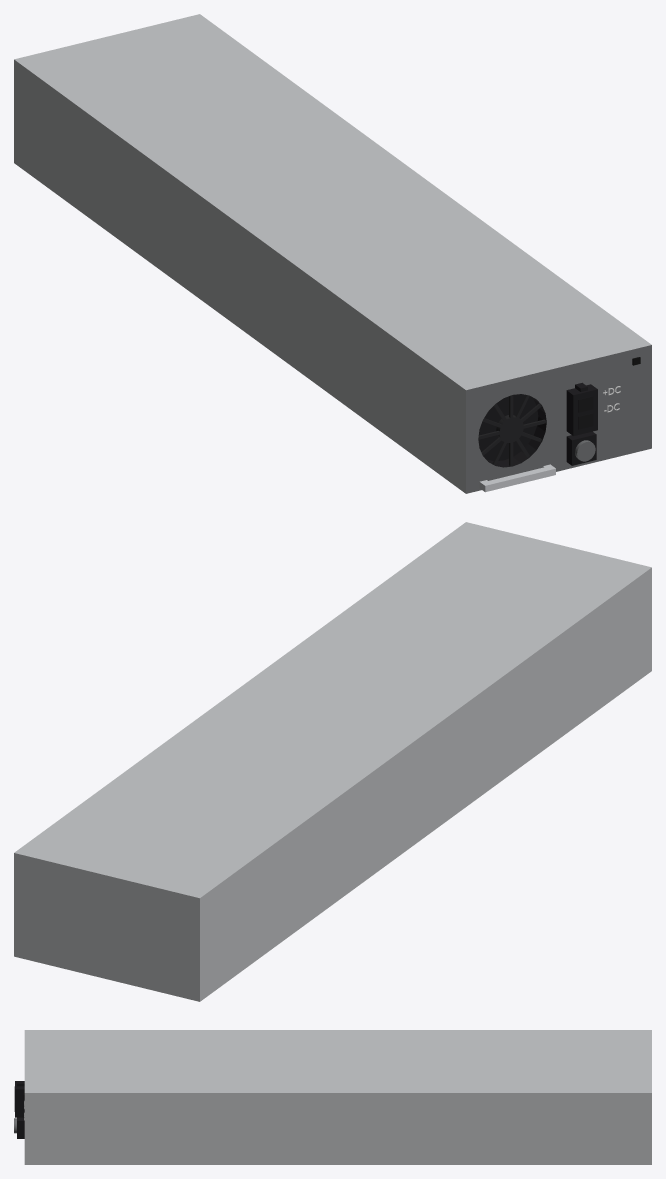
The model's file is C9K-PWR-1600WDC-R.far.glb.
3 views of the same model, one above another, from view 1: azimuth 30°, elevation 25°; view 2: azimuth 150°, elevation 25°; view 3: azimuth 270°, elevation 25° (orthographic). The views are drawn at different scales.
Parts seen in each view (by area): view 1: C9K-PWR-1600WDC-R_Body_far; view 2: C9K-PWR-1600WDC-R_Body_far; view 3: C9K-PWR-1600WDC-R_Body_far.
Part boxes in pixels (box(x1,y1,x2,y2)): C9K-PWR-1600WDC-R_Body_far: box(14, 14, 651, 493); C9K-PWR-1600WDC-R_Body_far: box(14, 522, 651, 1001); C9K-PWR-1600WDC-R_Body_far: box(14, 1030, 651, 1164).
Bounding box in the file's own units: 0.076 × 0.0405 × 0.3255.
2 materials, 1 textured.
